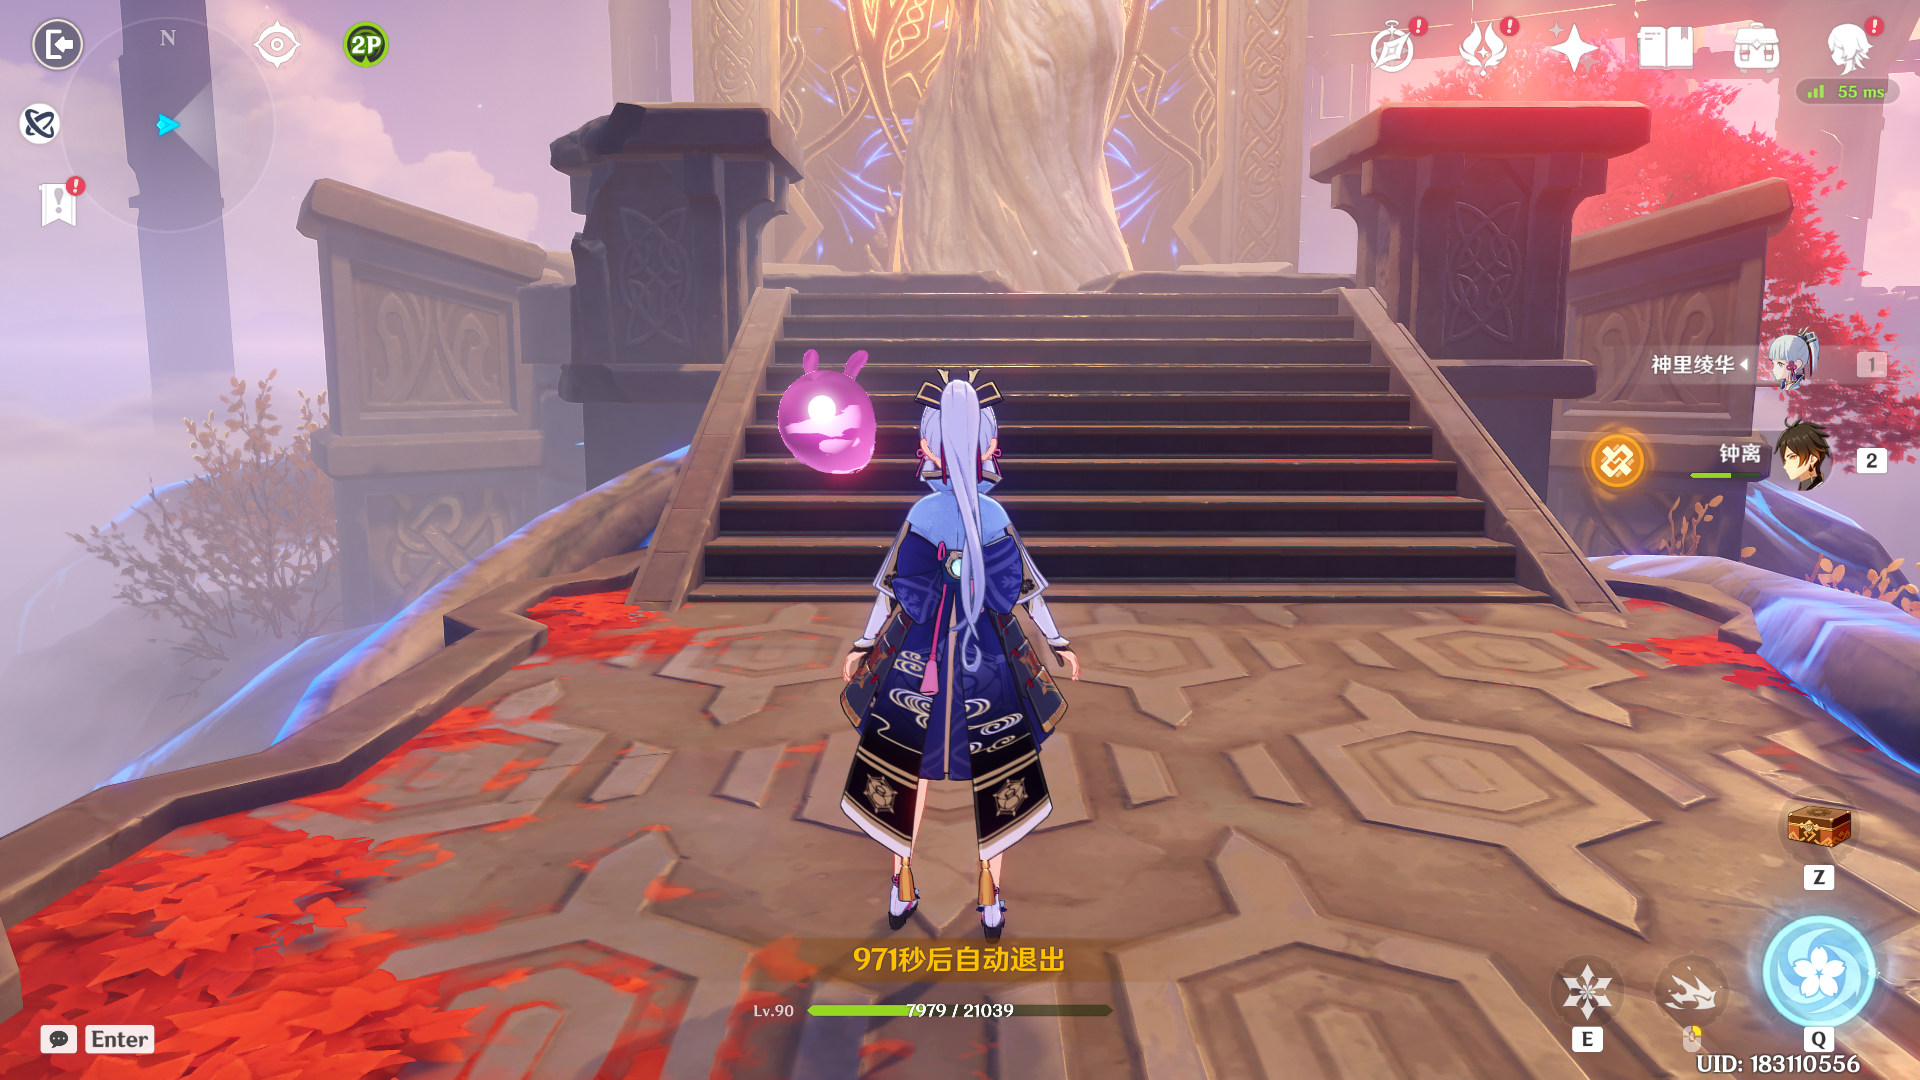character: (808, 353, 1112, 960)
